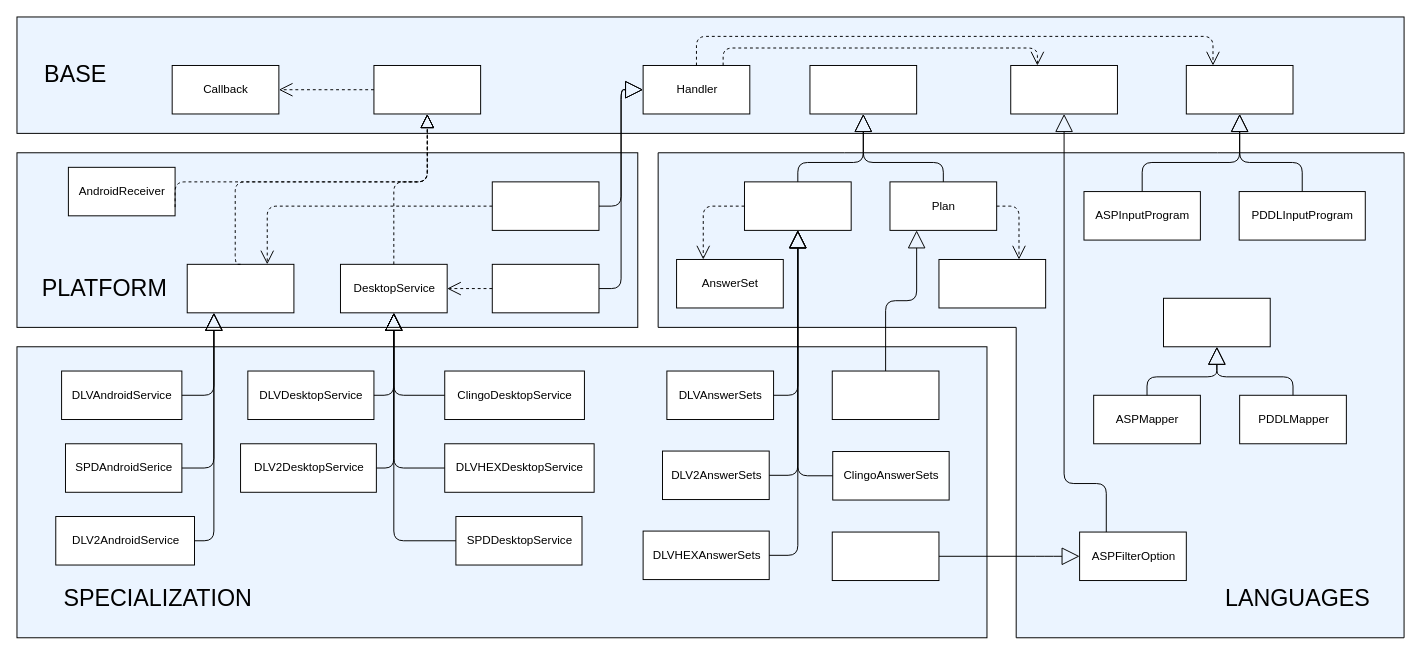
This 1421x655 diagram has some shape labels left out. The shapes that lost their labels are listed below. From the top down, each one's box as (x1, y1, x2, y2) in pixels, then its label:
(373, 65, 481, 114): Service
(809, 65, 917, 114): Output
(1010, 65, 1117, 114): OptionDescriptor
(1185, 65, 1293, 114): InputProgram
(491, 181, 599, 230): AndroidHandler
(744, 181, 851, 230): AnswerSets
(186, 263, 294, 313): AndroidService
(491, 263, 599, 313): DesktopHandler
(938, 259, 1046, 308): Action
(1163, 297, 1270, 347): Mapper
(831, 370, 939, 420): SPDPlan
(831, 531, 939, 581): DLVFilterOption
